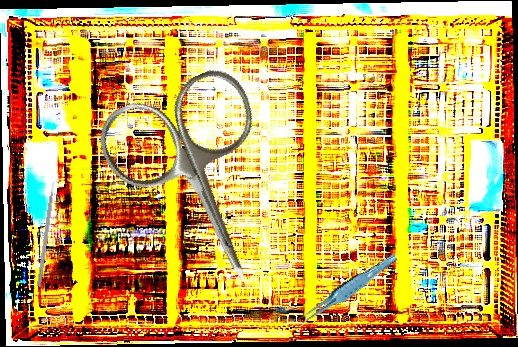Chopper: (36, 175, 63, 289)
Iris Scissors: (88, 60, 314, 312)
Tissue Forceps: (290, 252, 403, 328)
